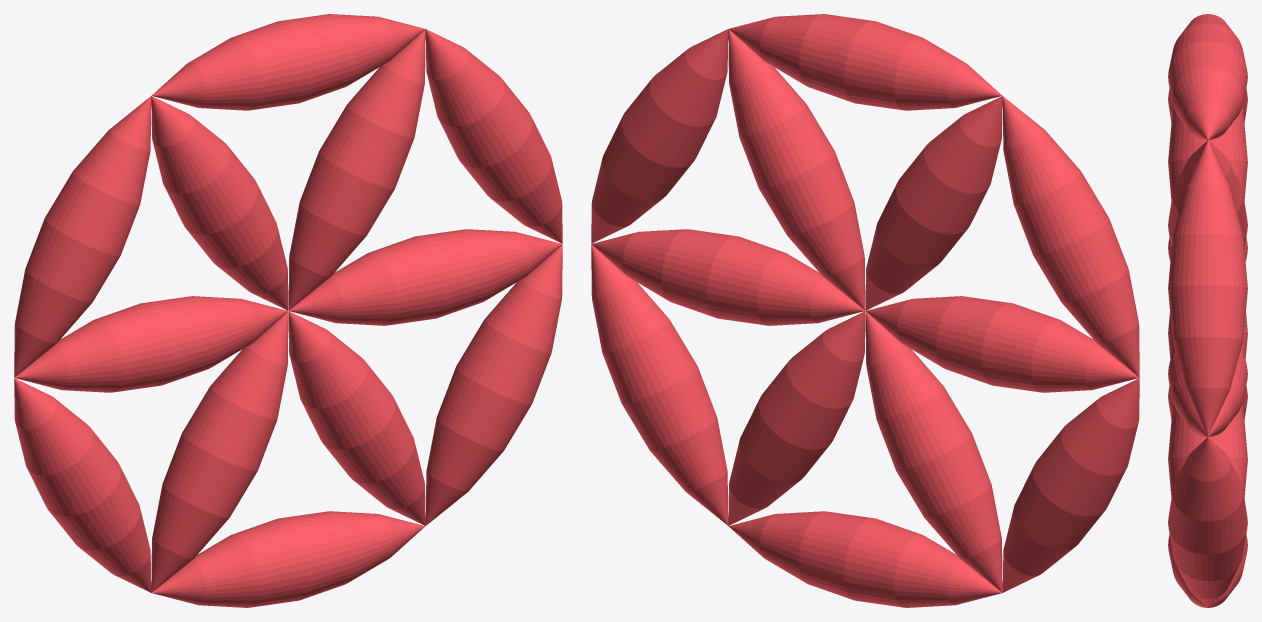
Rendered from flowerOfLife2.glb.
The picture shows the model from 3 angles, left to right: view 1: azimuth 30°, elevation 25°; view 2: azimuth 150°, elevation 25°; view 3: azimuth 270°, elevation 25°; orthographic projection. The views are drawn at different scales.
Parts seen in each view (by area): view 1: root; view 2: root; view 3: root.
Boxes of the visible parts, <box> form: root: <box>14,14,562,607</box>; root: <box>591,14,1139,607</box>; root: <box>1168,14,1247,607</box>.
Size of the model in its own units: 2 by 2 by 0.2679.
